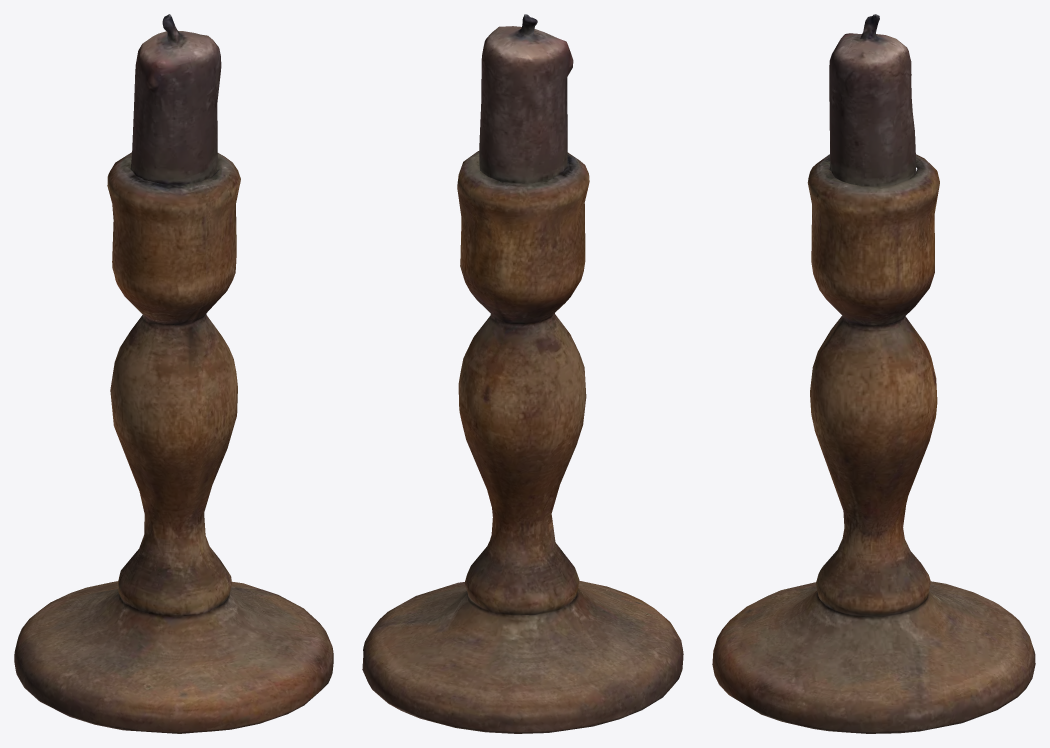
File: wooden_candlestick.glb
3 renders of one model, left to right at view 1: azimuth 30°, elevation 25°; view 2: azimuth 150°, elevation 25°; view 3: azimuth 270°, elevation 25°, orthographic.
Parts seen in each view (by area): view 1: wooden_candlestick; view 2: wooden_candlestick; view 3: wooden_candlestick.
Boxes of the visible parts, box(x1,y1,x2,y2) form: wooden_candlestick: box(14, 14, 333, 733); wooden_candlestick: box(362, 14, 683, 733); wooden_candlestick: box(712, 14, 1035, 733).
Bounding box in the file's own units: 0.0972 × 0.2196 × 0.0986.
1 material, 1 textured.
